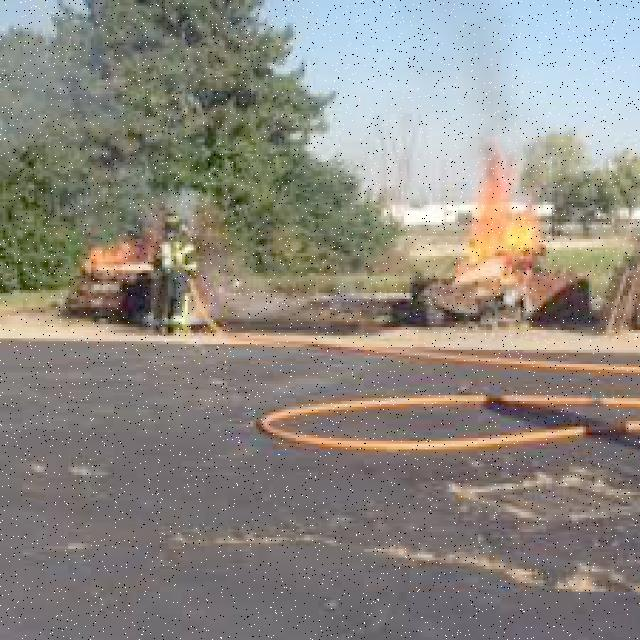fire: (472, 156, 548, 268)
